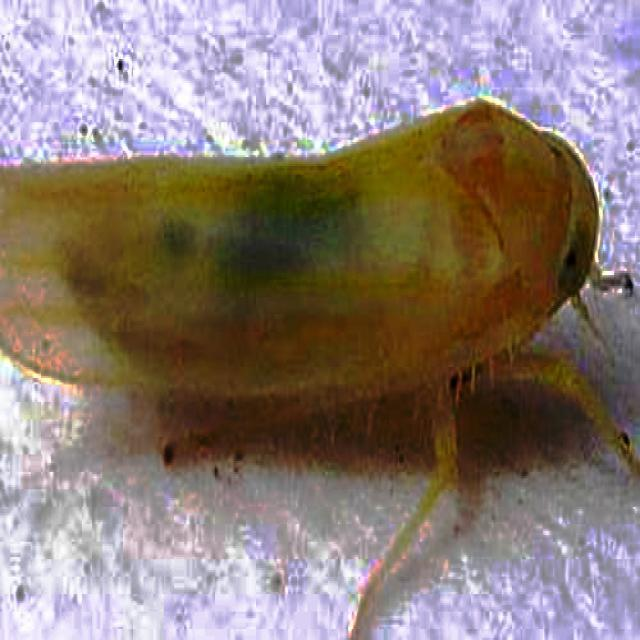green-leafhopper: (4, 106, 592, 414)
